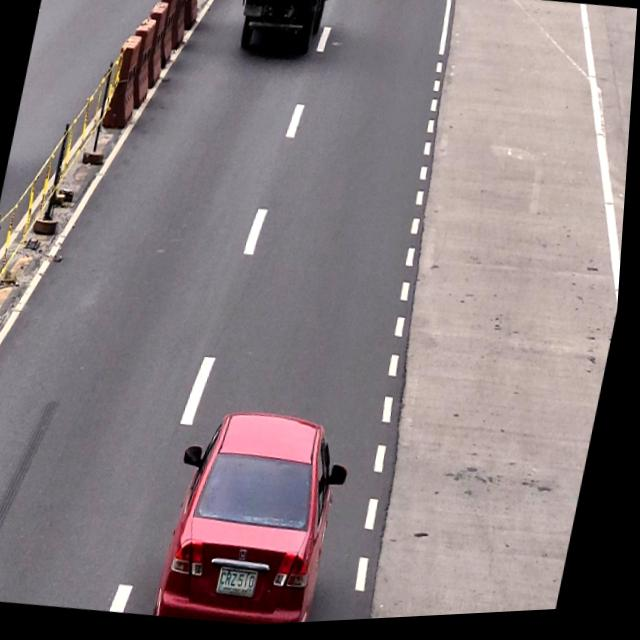Car: (155, 401, 356, 632)
License-Plate: (222, 566, 268, 606)
